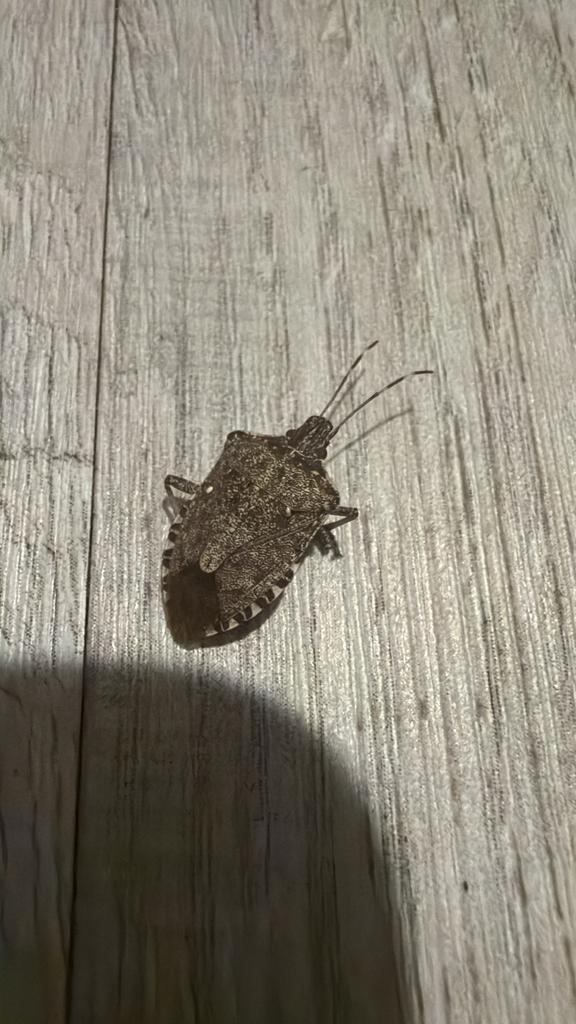stink_bugs: (81, 293, 482, 751)
